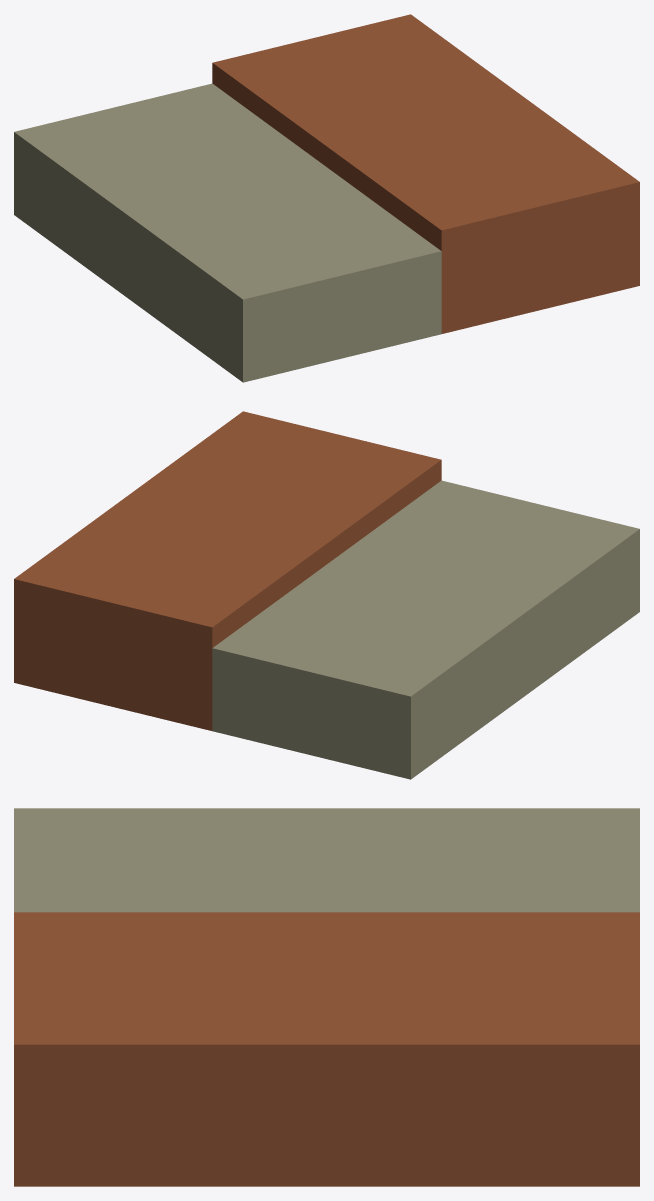
The model's file is Floor-Outdoor-4x4x1-Path-Wide-Straight-Side.FBX.
3 renders of one model, top to bottom at view 1: azimuth 30°, elevation 25°; view 2: azimuth 150°, elevation 25°; view 3: azimuth 270°, elevation 25°, orthographic. The views are drawn at different scales.
Visible parts, largest first — view 1: Floor-Outdoor-4x4x1-Path-Wide-Straight-Side; view 2: Floor-Outdoor-4x4x1-Path-Wide-Straight-Side; view 3: Floor-Outdoor-4x4x1-Path-Wide-Straight-Side.
Boxes of the visible parts, box(x1,y1,x2,y2) form: Floor-Outdoor-4x4x1-Path-Wide-Straight-Side: box(14, 14, 639, 382); Floor-Outdoor-4x4x1-Path-Wide-Straight-Side: box(14, 411, 639, 779); Floor-Outdoor-4x4x1-Path-Wide-Straight-Side: box(14, 808, 639, 1186).
Bounding box in the file's own units: 40 × 40 × 10.
